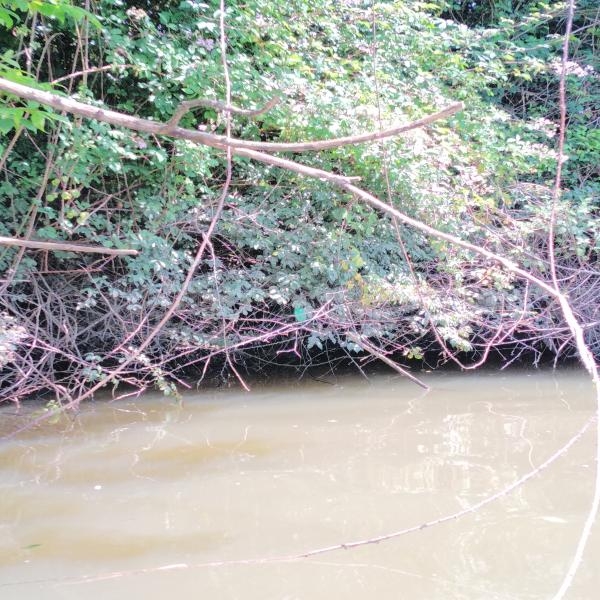others: (295, 305, 306, 320)
